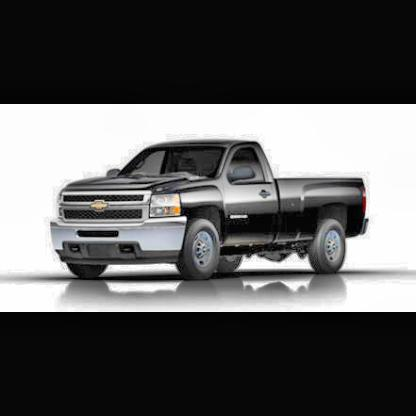Chevrolet Silverado 2500HD Regular Cab 2012: (52, 141, 370, 281)
